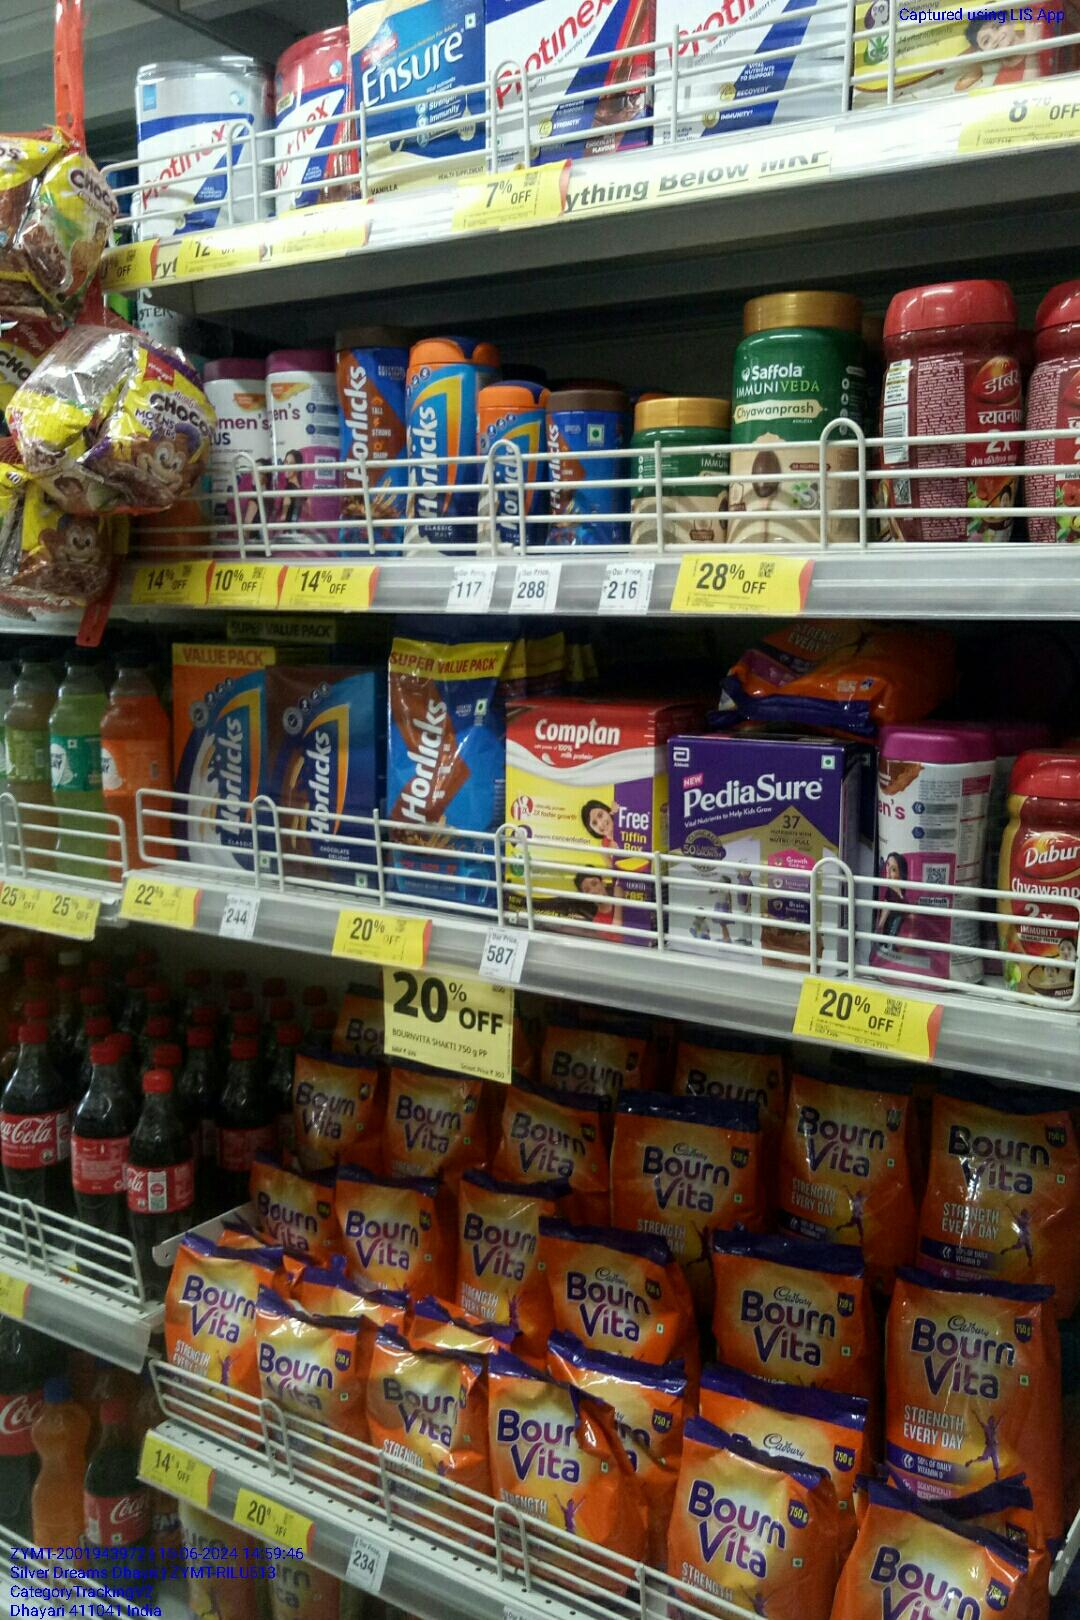BOURN_VITA_750_G_POUCH: (886, 1273, 1060, 1527), (491, 1366, 639, 1593), (663, 1434, 822, 1620), (916, 1097, 1080, 1263), (712, 1233, 874, 1391), (368, 1340, 487, 1538), (614, 1093, 762, 1225), (540, 1235, 692, 1363), (783, 1070, 904, 1227), (165, 1245, 260, 1437), (264, 1307, 365, 1486)
COMPLAN_CHOCOLATE_500_GMS_PACK: (506, 706, 656, 938)
ENSURE_VANILLA_400_G_PACK: (354, 0, 489, 192)
HORLICK_CHOCOLATE_1_KG_JAR: (333, 325, 404, 553)
HORLICK_CHOCOLATE_750_G_POUCH: (387, 632, 503, 897)
HORLICK_CLASSIC_MALT_500_G_JAR: (480, 382, 550, 547)
PEDIASURE_CHOCOLATE_500_G_PACK: (667, 739, 845, 973)
